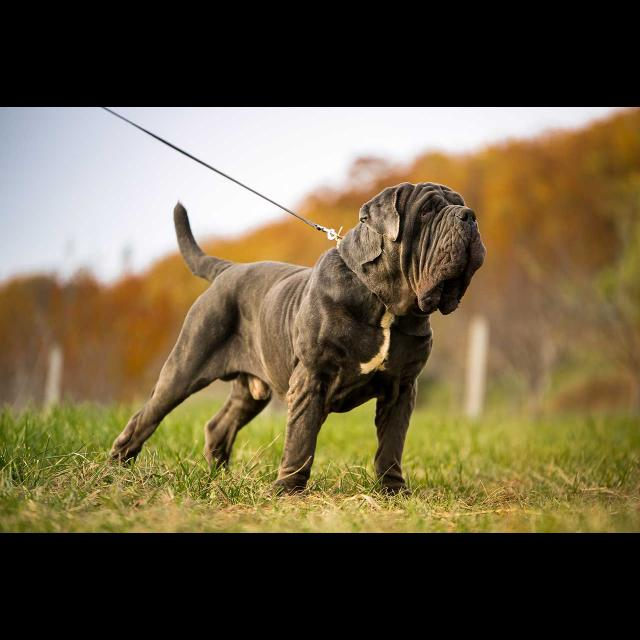mastino_napoletano: (109, 182, 487, 501)
